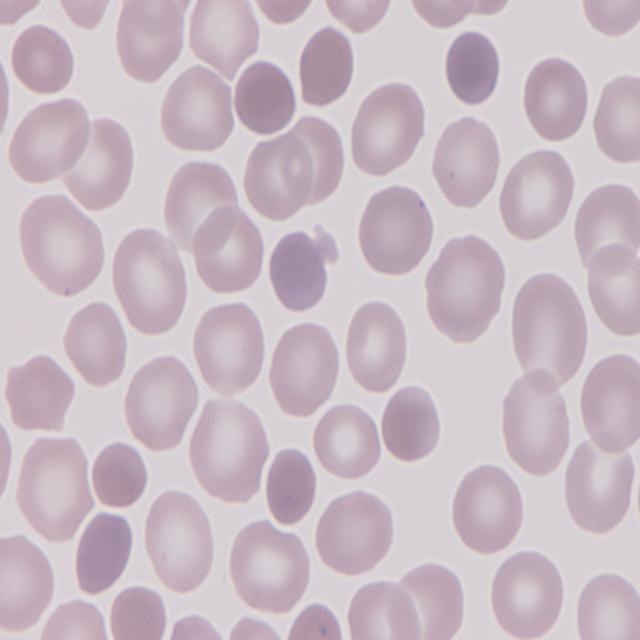RBC: (508, 272, 592, 391), (20, 196, 110, 303), (422, 232, 506, 346), (12, 433, 94, 548), (190, 396, 274, 508), (109, 227, 192, 339), (226, 518, 314, 616), (140, 490, 220, 596), (162, 157, 244, 258), (562, 432, 640, 538), (348, 82, 430, 182), (120, 352, 198, 457), (497, 146, 577, 248), (192, 298, 270, 402), (501, 368, 574, 477), (268, 316, 344, 420), (7, 94, 90, 188), (316, 486, 396, 582), (160, 60, 240, 156), (62, 111, 138, 212), (428, 110, 502, 212), (356, 184, 436, 278), (192, 205, 268, 302), (488, 549, 569, 640), (451, 464, 528, 557), (278, 109, 348, 208), (571, 179, 640, 277), (343, 302, 413, 398), (522, 56, 594, 146), (246, 133, 316, 224), (579, 350, 640, 454), (112, 0, 188, 83), (63, 298, 132, 388), (582, 235, 640, 341), (3, 350, 75, 434), (311, 400, 383, 481), (0, 536, 58, 636), (188, 0, 264, 76), (74, 508, 139, 594), (8, 20, 78, 96), (378, 384, 445, 462), (588, 71, 640, 165), (573, 569, 640, 640), (344, 581, 424, 640), (38, 594, 110, 640), (108, 585, 168, 640), (284, 595, 348, 640), (322, 0, 399, 35), (401, 0, 481, 31), (581, 0, 640, 37), (0, 406, 18, 525), (50, 0, 118, 30), (160, 612, 228, 640), (249, 0, 320, 25), (224, 615, 294, 640), (0, 0, 45, 30)
Spherocyte: (267, 228, 334, 318), (296, 18, 359, 108), (232, 56, 298, 141), (441, 26, 507, 110), (262, 446, 318, 528), (88, 441, 148, 514)
